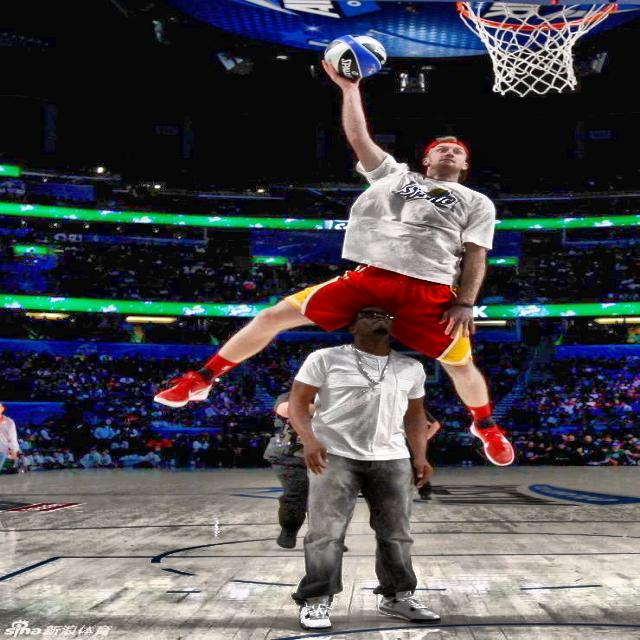board: (322, 35, 388, 80)
rim: (453, 2, 621, 94)
